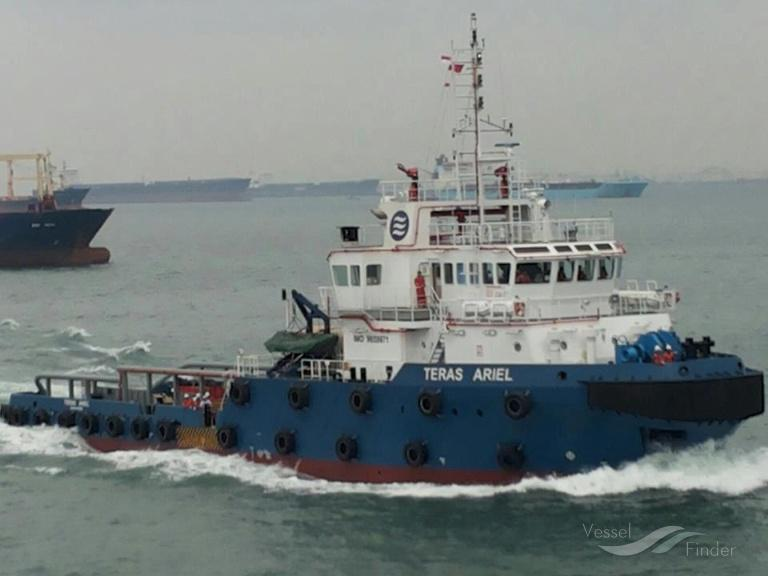OCR: (416, 362, 516, 385)
